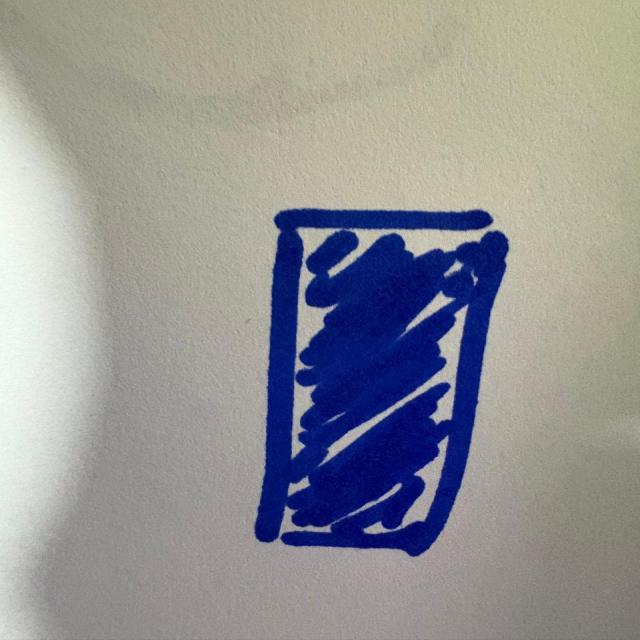Rectangle: (244, 192, 516, 568)
